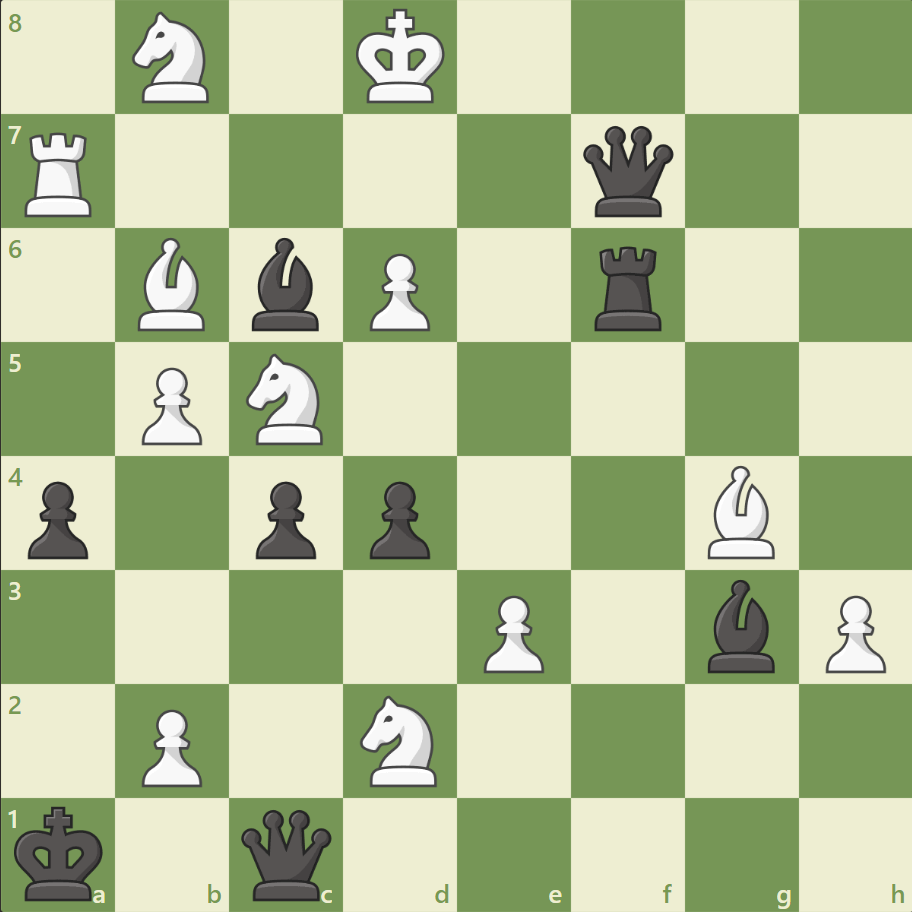B: (131, 233, 215, 336), (698, 460, 782, 563)
K: (351, 4, 451, 112)
N: (124, 7, 222, 110), (351, 688, 449, 791), (238, 348, 335, 450)
P: (133, 359, 208, 450), (474, 586, 549, 677), (133, 700, 208, 791), (361, 246, 435, 337), (815, 586, 889, 677)
R: (19, 125, 102, 222)
b: (244, 233, 328, 336), (698, 574, 782, 676)
k: (11, 798, 111, 906)
p: (20, 473, 95, 564), (247, 473, 322, 564), (361, 473, 435, 564)
q: (578, 122, 677, 222), (237, 804, 336, 903)
r: (587, 239, 670, 336)
